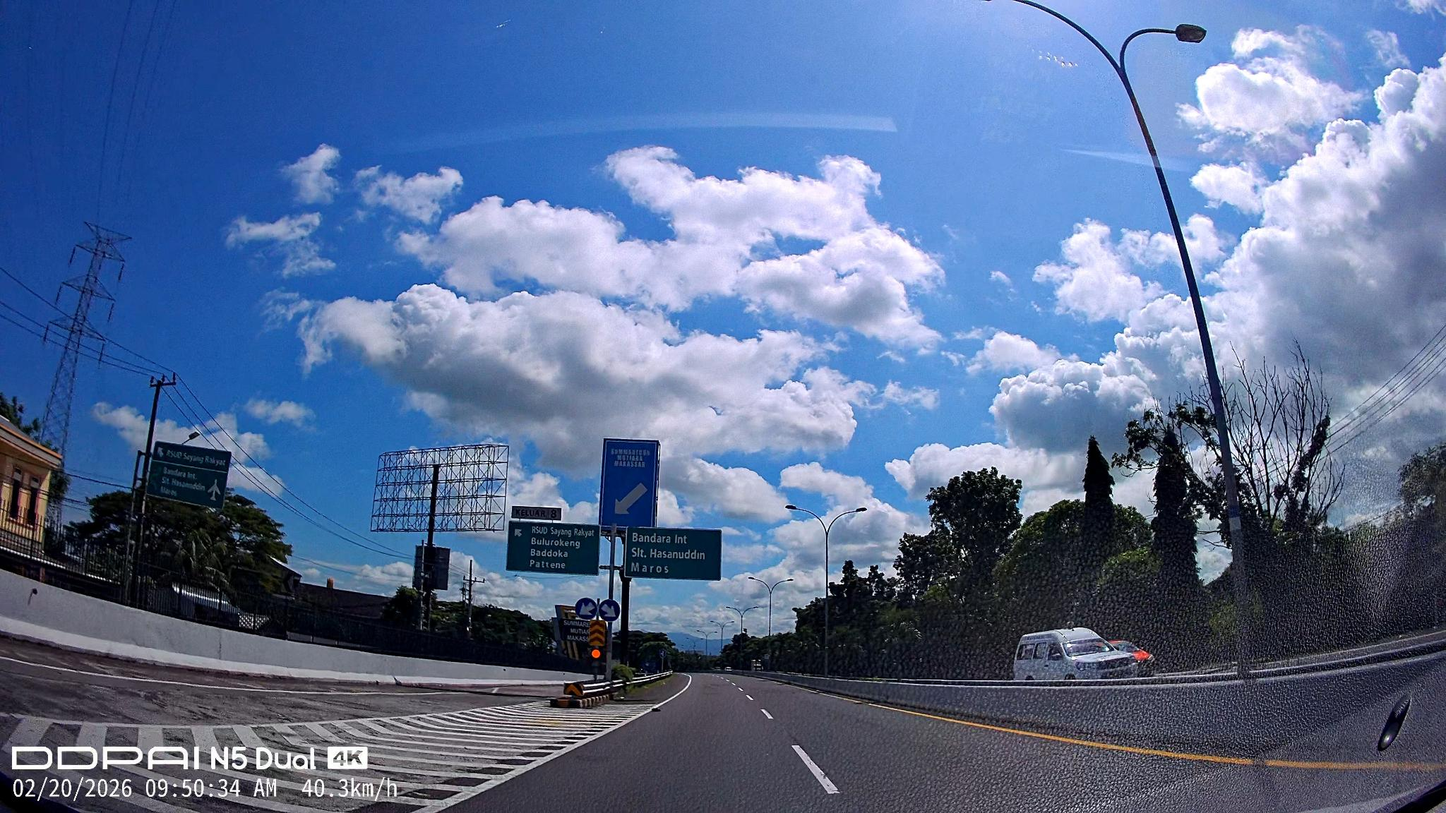rambu_teks: (623, 525, 723, 582), (505, 520, 602, 577)
